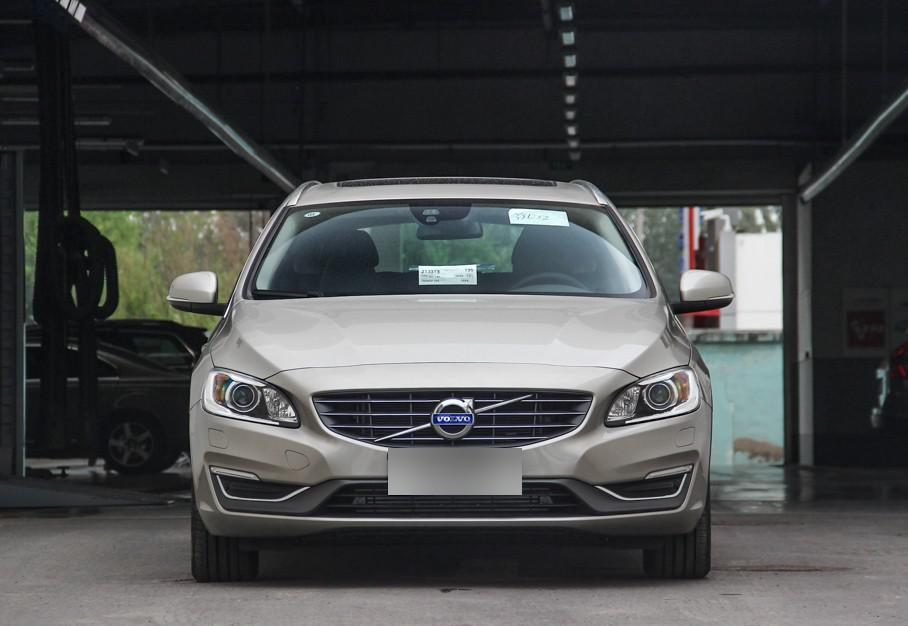Wagon: (166, 175, 734, 580)
